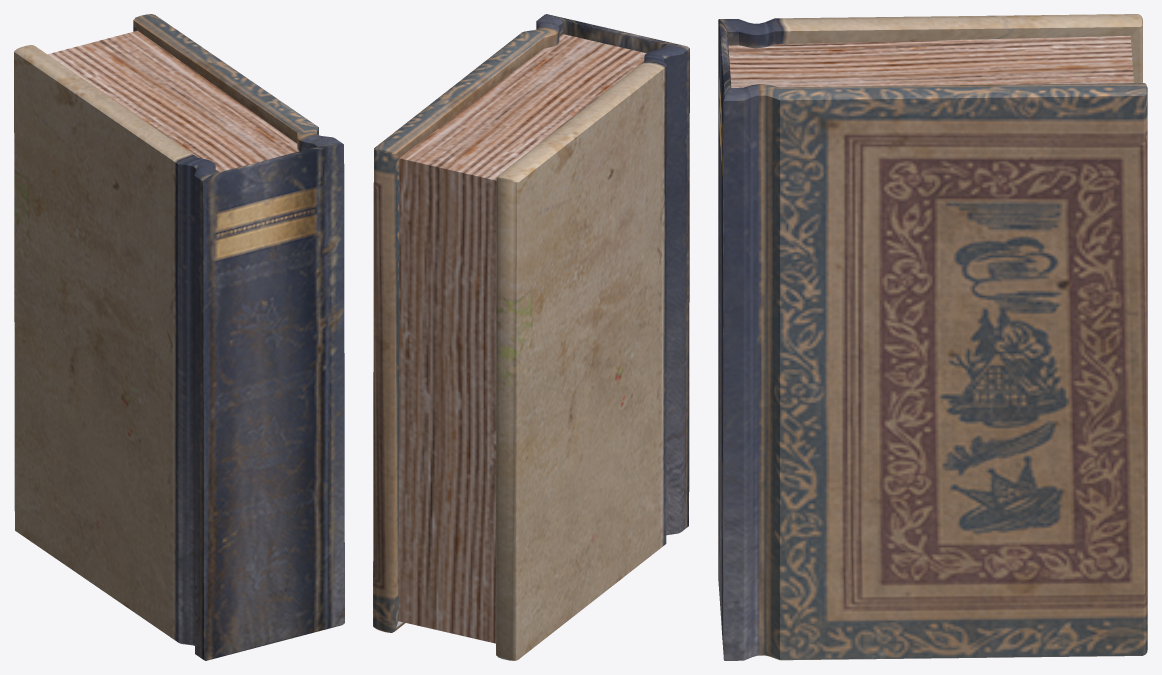
The model's file is Book.fbx.
3 views of the same model, side by side, from view 1: azimuth 30°, elevation 25°; view 2: azimuth 150°, elevation 25°; view 3: azimuth 270°, elevation 25° (orthographic). The views are drawn at different scales.
Parts seen in each view (by area): view 1: Book1; view 2: Book1; view 3: Book1.
Boxes of the visible parts, <box> form: Book1: <box>14,14,344,660</box>; Book1: <box>373,14,689,660</box>; Book1: <box>718,14,1147,660</box>.
Bounding box in the file's own units: 0.1175 × 0.3546 × 0.2443.
1 material, 1 textured.
